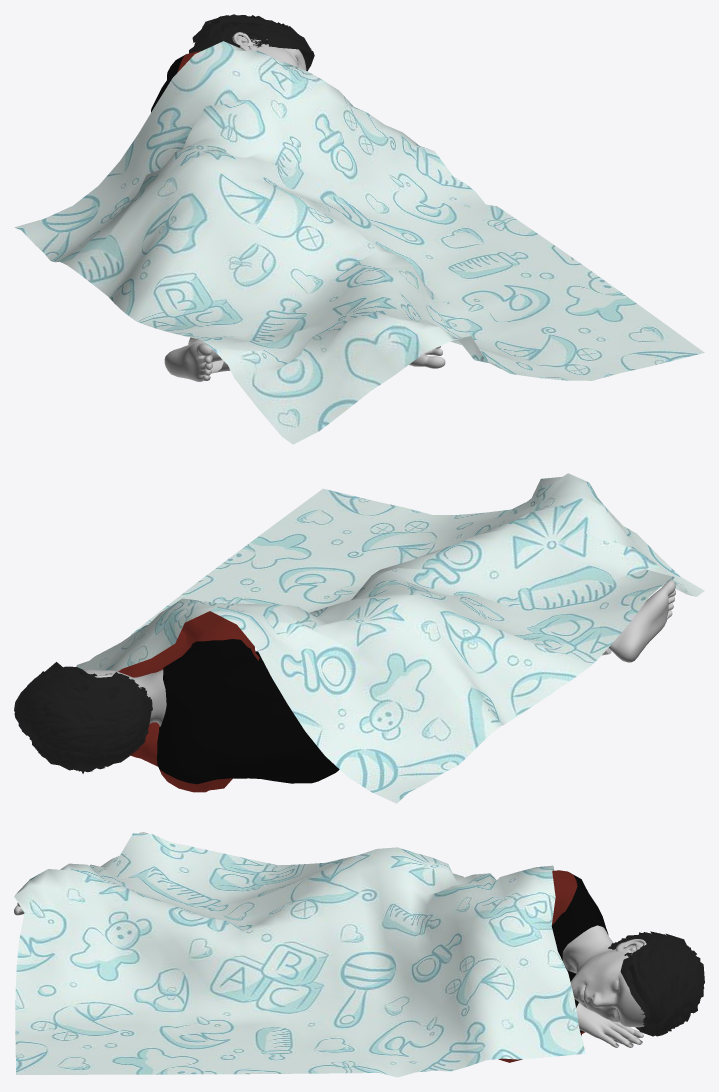
Rendered from cwb.gltf.
3 renders of one model, top to bottom at view 1: azimuth 30°, elevation 25°; view 2: azimuth 150°, elevation 25°; view 3: azimuth 270°, elevation 25°, orthographic. The views are drawn at different scales.
Parts seen in each view (by area): view 1: --5_53226.Shape.001; view 2: --5_53226.Shape.001; view 3: --5_53226.Shape.001.
Boxes of the visible parts, x1,y1,x2,y2 form: --5_53226.Shape.001: (14,14,704,444); --5_53226.Shape.001: (14,473,704,803); --5_53226.Shape.001: (14,832,704,1077).
Bounding box in the file's own units: 0.8492 × 0.3808 × 1.31.
